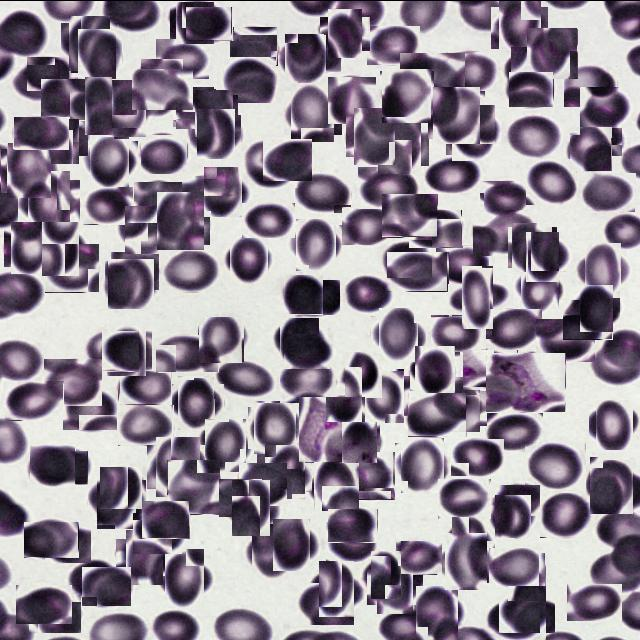red blood cell: (400, 52, 465, 98), (167, 459, 221, 514), (525, 441, 586, 489), (94, 80, 148, 134), (23, 174, 76, 227), (154, 194, 208, 246), (473, 209, 534, 255), (336, 451, 394, 499), (430, 88, 483, 140), (44, 358, 102, 405), (152, 440, 204, 492), (373, 118, 425, 170), (381, 69, 433, 121), (136, 62, 188, 114), (45, 243, 100, 292), (287, 86, 338, 138), (358, 166, 420, 208), (526, 28, 578, 78), (408, 392, 467, 436), (586, 458, 636, 509), (244, 140, 298, 187), (536, 318, 595, 361), (505, 114, 562, 158), (280, 358, 337, 402), (398, 439, 448, 489), (412, 588, 462, 638), (160, 552, 210, 602), (434, 378, 484, 428), (449, 107, 499, 157), (92, 474, 142, 524), (4, 145, 54, 195), (441, 536, 491, 586), (495, 1, 544, 52), (214, 358, 276, 398), (382, 192, 438, 236), (350, 110, 399, 160), (387, 251, 448, 291), (540, 492, 594, 537), (248, 527, 297, 576), (134, 181, 182, 231), (163, 250, 220, 292), (156, 334, 219, 372), (224, 56, 276, 102), (5, 380, 64, 420), (65, 18, 113, 67), (298, 582, 354, 624), (106, 259, 155, 307), (526, 158, 577, 204), (486, 308, 543, 349), (489, 547, 546, 588), (424, 154, 482, 194), (251, 403, 299, 451), (86, 136, 134, 184), (313, 461, 361, 509), (260, 447, 308, 495), (118, 404, 174, 445), (486, 411, 543, 451), (295, 172, 352, 212), (201, 421, 249, 468), (328, 76, 376, 123), (454, 272, 501, 320), (120, 533, 168, 580), (227, 483, 274, 531), (463, 349, 518, 390), (63, 390, 119, 430), (16, 582, 72, 622), (375, 311, 422, 358), (41, 78, 96, 118), (564, 65, 617, 106), (292, 221, 339, 267), (360, 372, 407, 418), (503, 590, 550, 636), (582, 172, 636, 212), (580, 86, 632, 127), (438, 478, 491, 518), (156, 38, 209, 78), (29, 592, 82, 632), (174, 379, 220, 425), (580, 246, 626, 292), (372, 563, 418, 609), (122, 206, 168, 252), (30, 442, 76, 488), (38, 225, 84, 271), (282, 34, 328, 80), (177, 175, 227, 217), (88, 330, 139, 371), (488, 600, 540, 640), (517, 266, 562, 312), (226, 236, 271, 282), (198, 316, 244, 361), (314, 565, 359, 611), (193, 110, 238, 156), (367, 25, 420, 64), (239, 462, 287, 505), (263, 138, 312, 180), (451, 438, 505, 476), (434, 245, 488, 283), (446, 51, 497, 91), (326, 521, 377, 561), (567, 583, 622, 620), (108, 251, 160, 290), (510, 224, 555, 269), (104, 328, 150, 372), (412, 348, 458, 392), (8, 224, 52, 270), (269, 522, 315, 566), (342, 206, 395, 244), (409, 209, 462, 247), (133, 512, 182, 553), (563, 299, 613, 339), (82, 566, 132, 606), (592, 402, 636, 447), (24, 521, 79, 557), (74, 31, 119, 75), (201, 168, 245, 213), (431, 314, 482, 352), (83, 186, 134, 224), (40, 116, 84, 160), (508, 48, 552, 92), (277, 318, 321, 362), (569, 126, 613, 170), (68, 559, 116, 599), (480, 180, 531, 217), (141, 134, 188, 174), (383, 239, 432, 277), (242, 202, 295, 237), (12, 116, 68, 149), (342, 276, 393, 312), (142, 500, 190, 538), (192, 92, 235, 134), (173, 0, 217, 41), (289, 279, 340, 314), (324, 12, 366, 54), (449, 519, 491, 561), (343, 353, 385, 395), (522, 235, 564, 277), (100, 466, 142, 508), (78, 84, 120, 126), (228, 40, 270, 82), (233, 26, 278, 65), (576, 286, 617, 328), (328, 508, 378, 542), (174, 86, 214, 128), (120, 372, 172, 404), (45, 526, 91, 562), (219, 478, 262, 516), (40, 450, 88, 484), (509, 71, 554, 107), (15, 64, 60, 100), (284, 333, 330, 368), (583, 116, 623, 156), (284, 274, 324, 314), (492, 496, 532, 536), (396, 540, 443, 574), (186, 6, 232, 40), (366, 554, 406, 593), (27, 56, 70, 90), (496, 484, 541, 516), (300, 38, 342, 72), (341, 422, 378, 460)
trophozoite: (486, 352, 566, 412), (299, 396, 365, 462)
